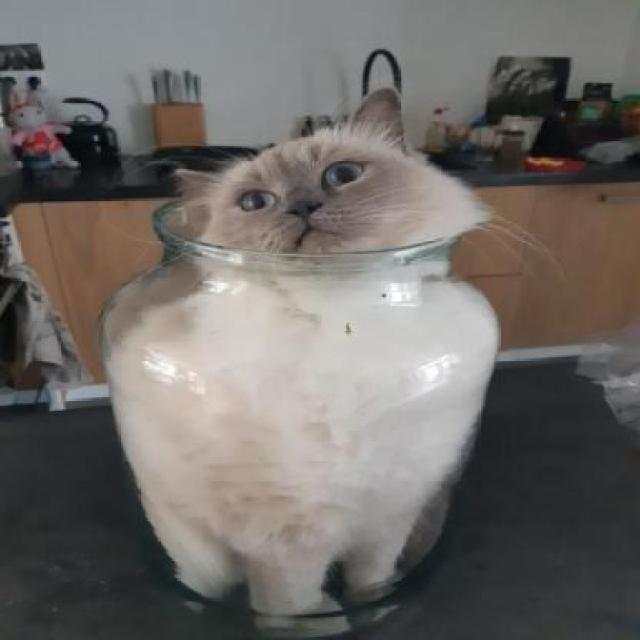cat: (142, 93, 498, 279)
